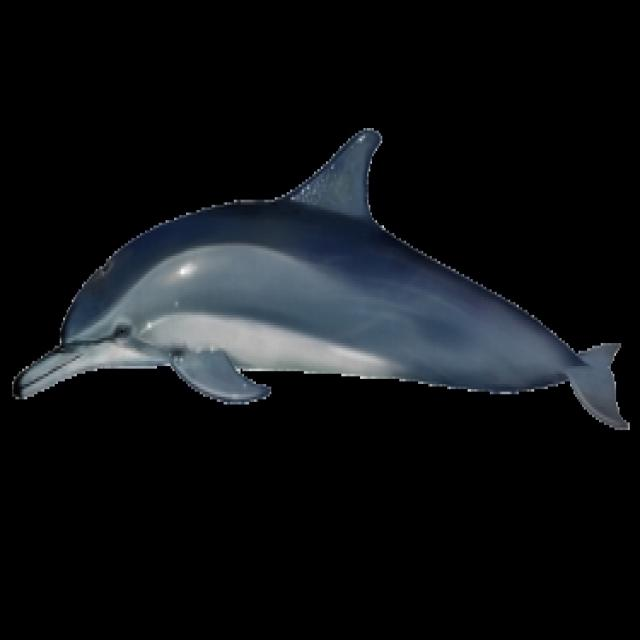penguin: (14, 128, 628, 428)
